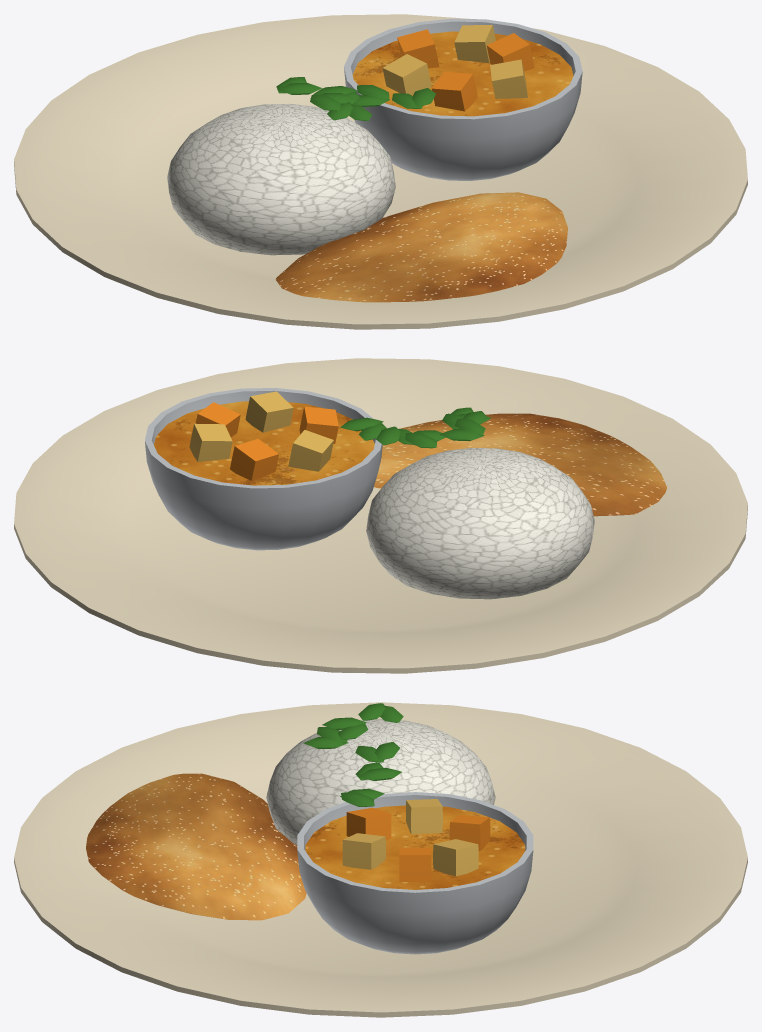
Rendered from meal_curry_and_rice.glb.
3 views of the same model, one above another, from view 1: azimuth 30°, elevation 25°; view 2: azimuth 150°, elevation 25°; view 3: azimuth 270°, elevation 25° (orthographic).
Visible parts, largest first — view 1: meal_curry_and_rice; view 2: meal_curry_and_rice; view 3: meal_curry_and_rice.
Boxes of the visible parts, x1,y1,x2,y2 form: meal_curry_and_rice: (14,14,747,329); meal_curry_and_rice: (14,358,747,673); meal_curry_and_rice: (14,702,747,1017).
Bounding box in the file's own units: 0.32 × 0.0763 × 0.32.
Materials: 8 (3 with a texture image).
